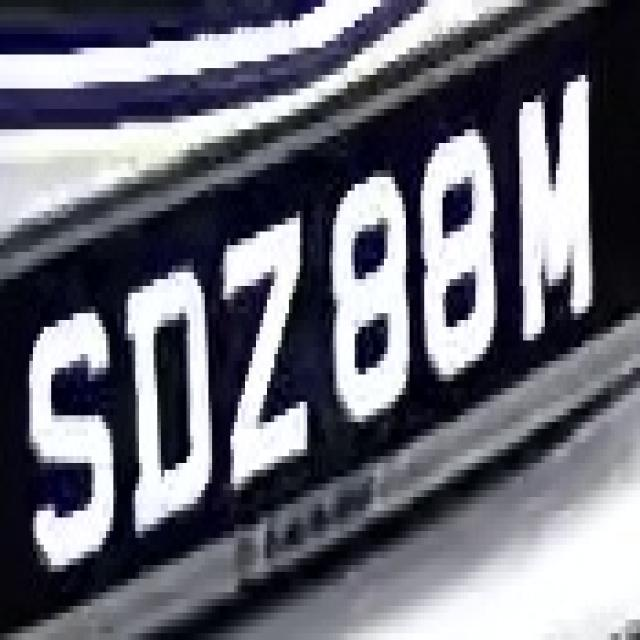8: (410, 116, 504, 415), (322, 156, 420, 442)
D: (117, 252, 219, 545)
M: (505, 48, 607, 361)
S: (22, 286, 121, 565)
Z: (205, 191, 322, 497)
